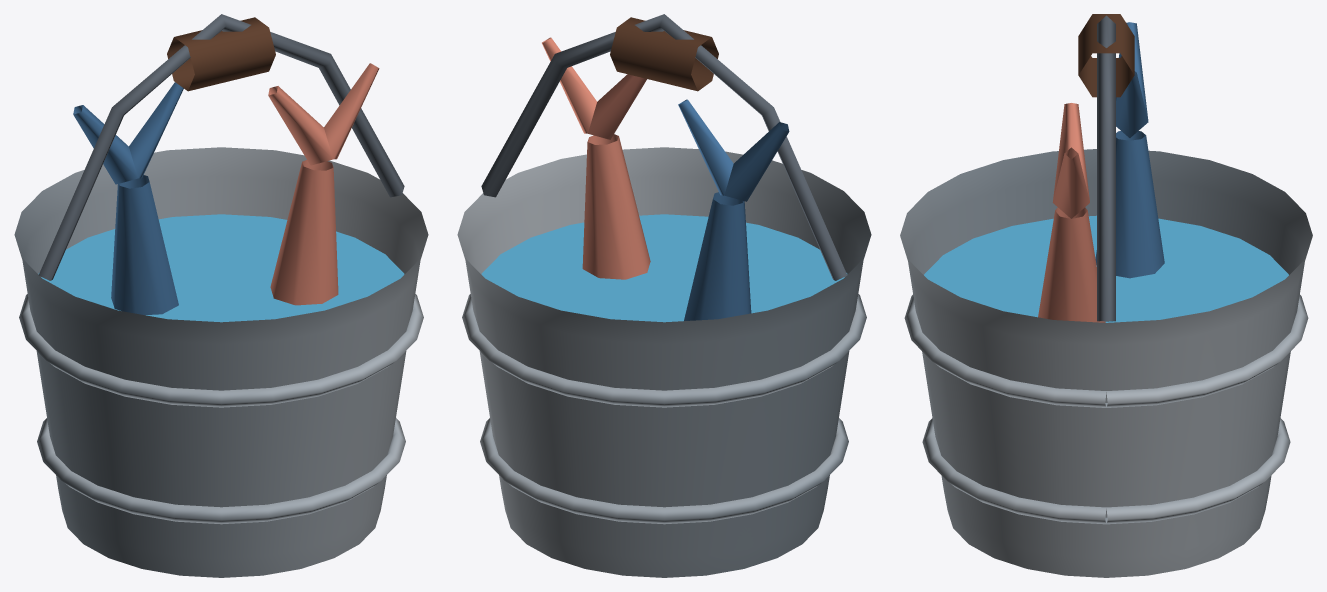
The model's file is style_bucket.glb.
3 renders of one model, left to right at view 1: azimuth 30°, elevation 25°; view 2: azimuth 150°, elevation 25°; view 3: azimuth 270°, elevation 25°, orthographic.
Visible parts, largest first — view 1: style_bucket_gloss, style_bucket_main; view 2: style_bucket_gloss, style_bucket_main; view 3: style_bucket_gloss, style_bucket_main.
Part boxes in pixels (left/top/right/bottom): style_bucket_gloss: left=14, top=14, right=428, bottom=577; style_bucket_main: left=38, top=17, right=404, bottom=322; style_bucket_gloss: left=457, top=14, right=871, bottom=577; style_bucket_main: left=481, top=17, right=847, bottom=322; style_bucket_gloss: left=900, top=15, right=1312, bottom=577; style_bucket_main: left=924, top=14, right=1288, bottom=322.
Size of the model in its own units: 0.1805 by 0.234 by 0.1768.
